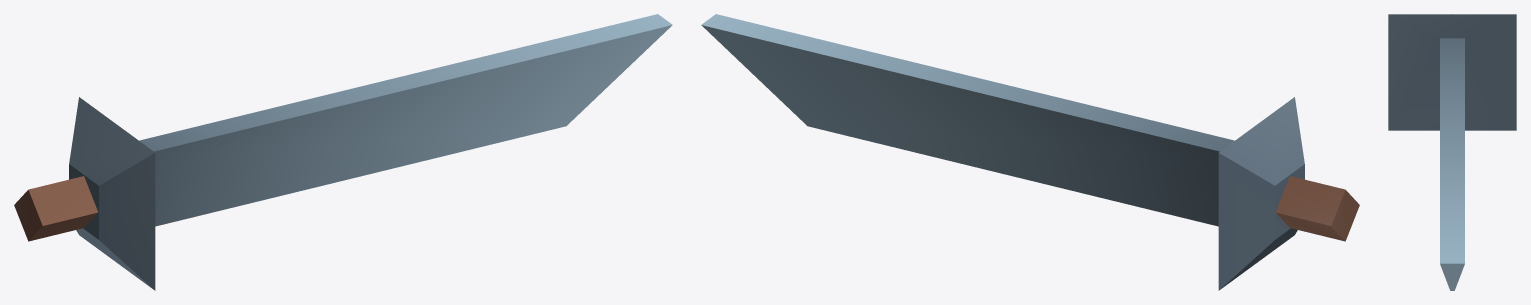
The model's file is sword.dae.
The picture shows the model from 3 angles, left to right: view 1: azimuth 30°, elevation 25°; view 2: azimuth 150°, elevation 25°; view 3: azimuth 270°, elevation 25°; orthographic projection. The views are drawn at different scales.
Visible parts, largest first — view 1: Sword; view 2: Sword; view 3: Sword.
Boxes of the visible parts, <box> form: Sword: <box>14,14,672,290</box>; Sword: <box>701,14,1359,290</box>; Sword: <box>1388,14,1516,290</box>.
Size of the model in its own units: 4.67 by 0.9678 by 0.9678.
